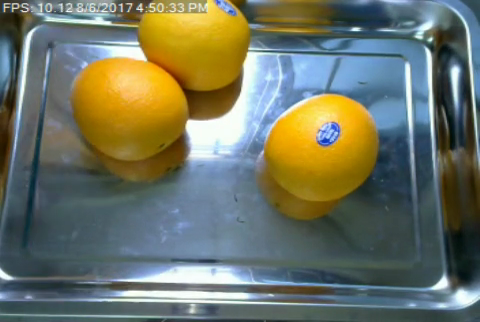Orange: (262, 92, 379, 200), (70, 56, 188, 160), (138, 0, 252, 92)
